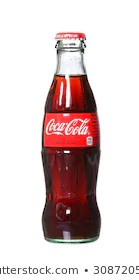coke-glass-bottle: (39, 29, 105, 246)
